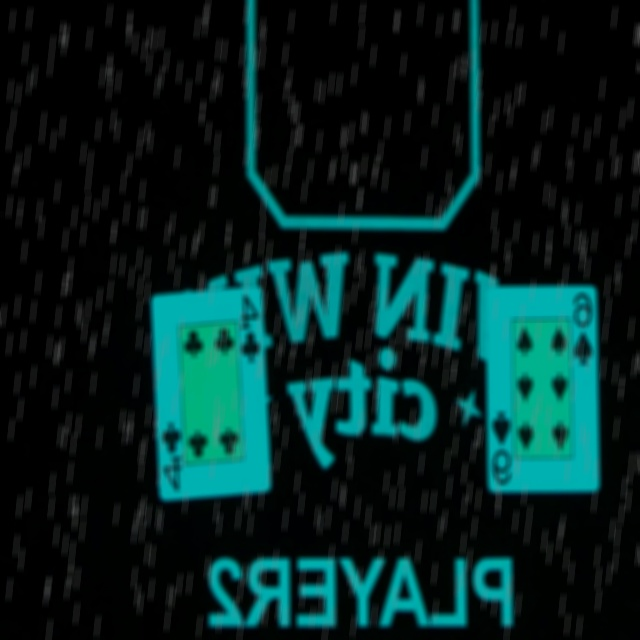4C: (235, 286, 262, 364), (156, 415, 182, 495)
6S: (570, 288, 598, 370), (487, 409, 514, 489)
